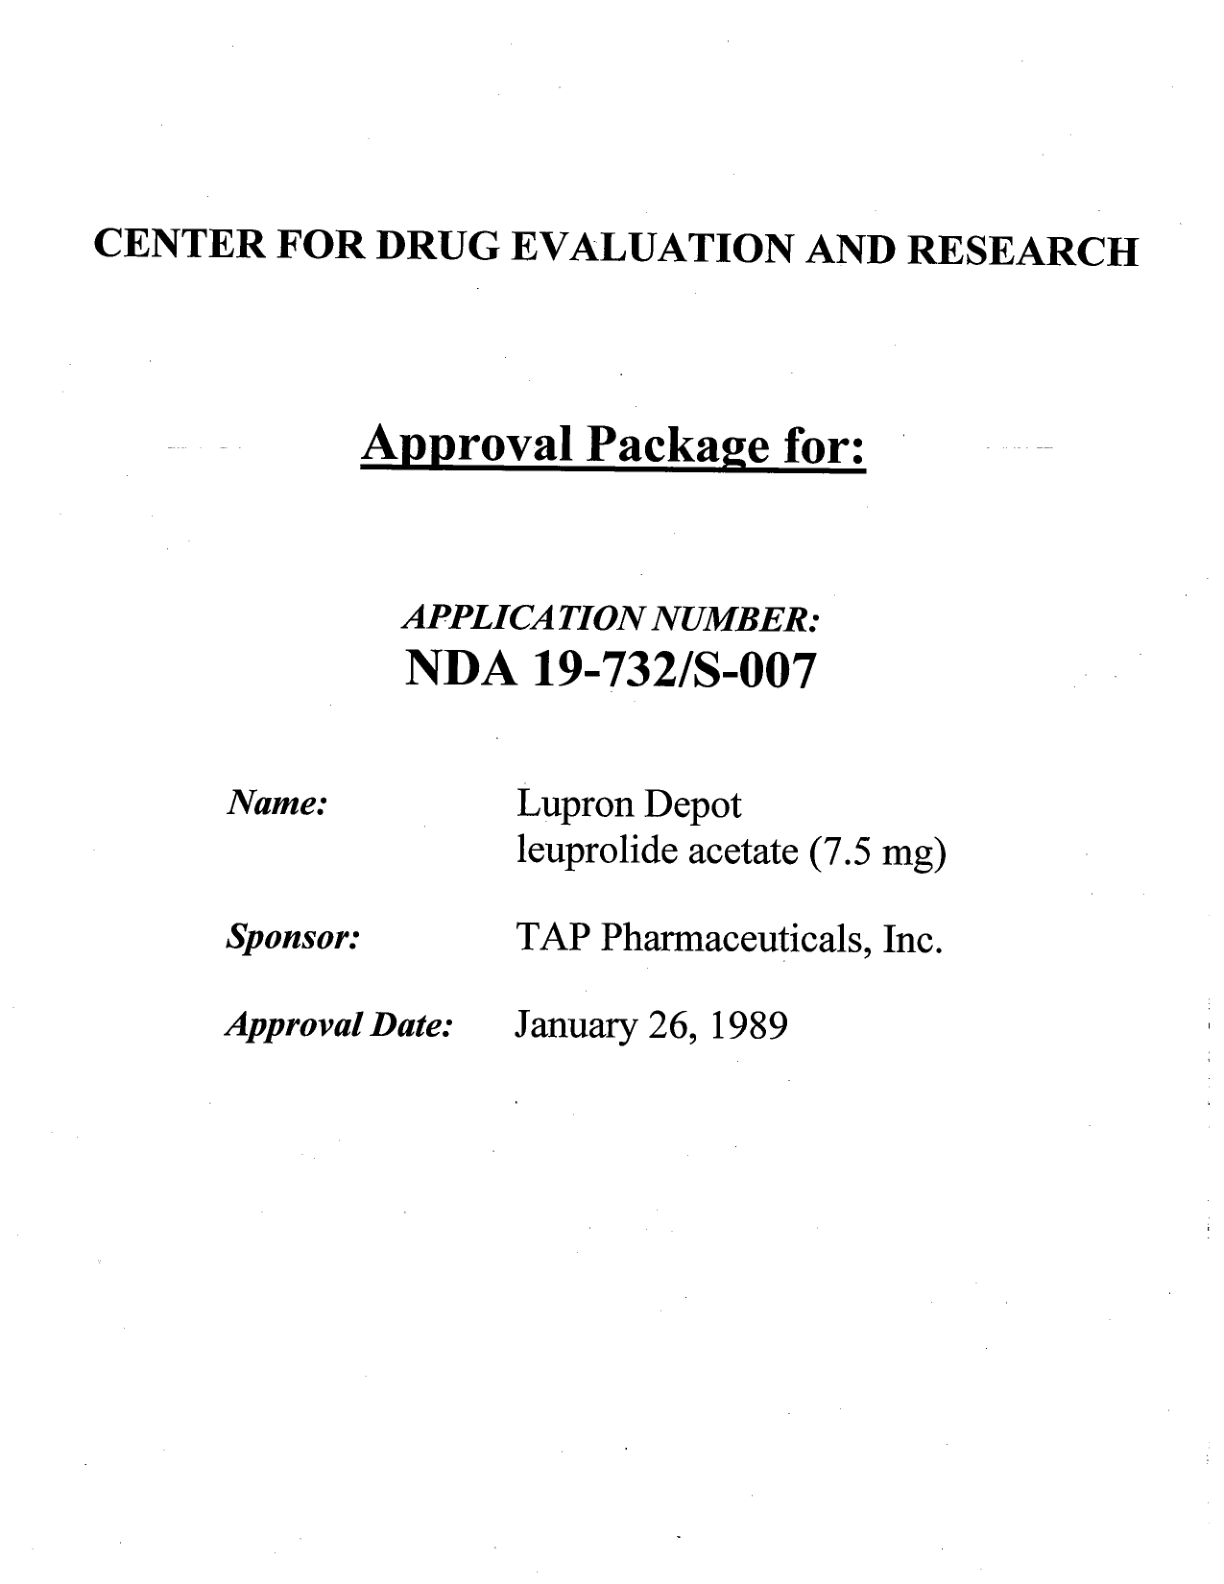nolines: (219, 782, 948, 1049)
